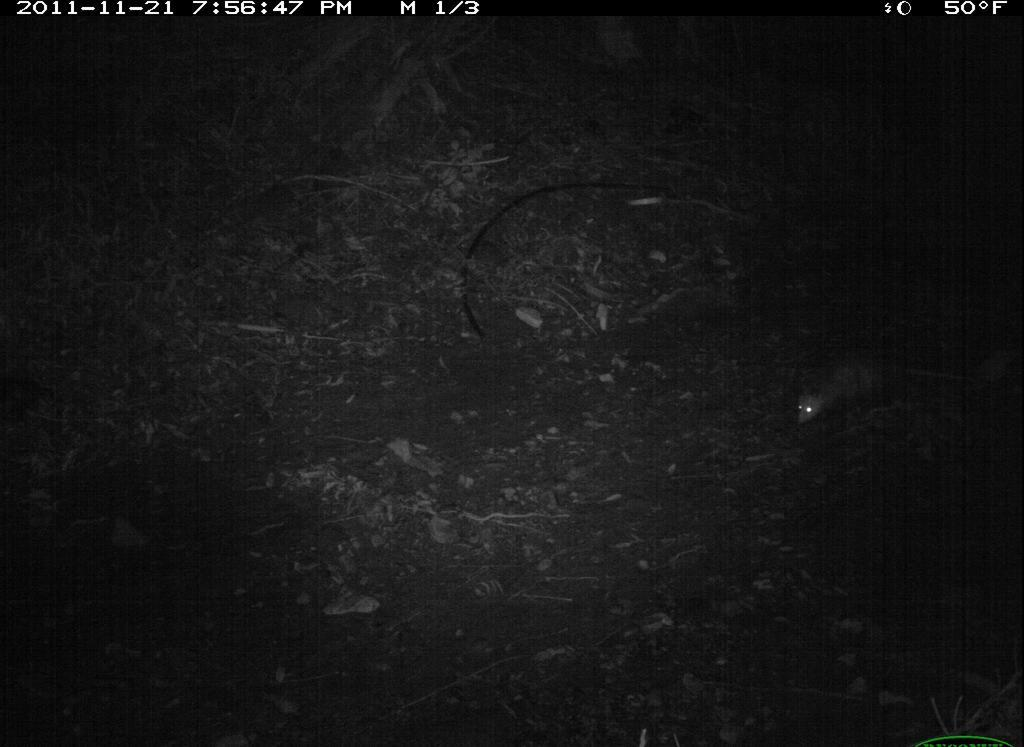opossum: (788, 353, 914, 438)
